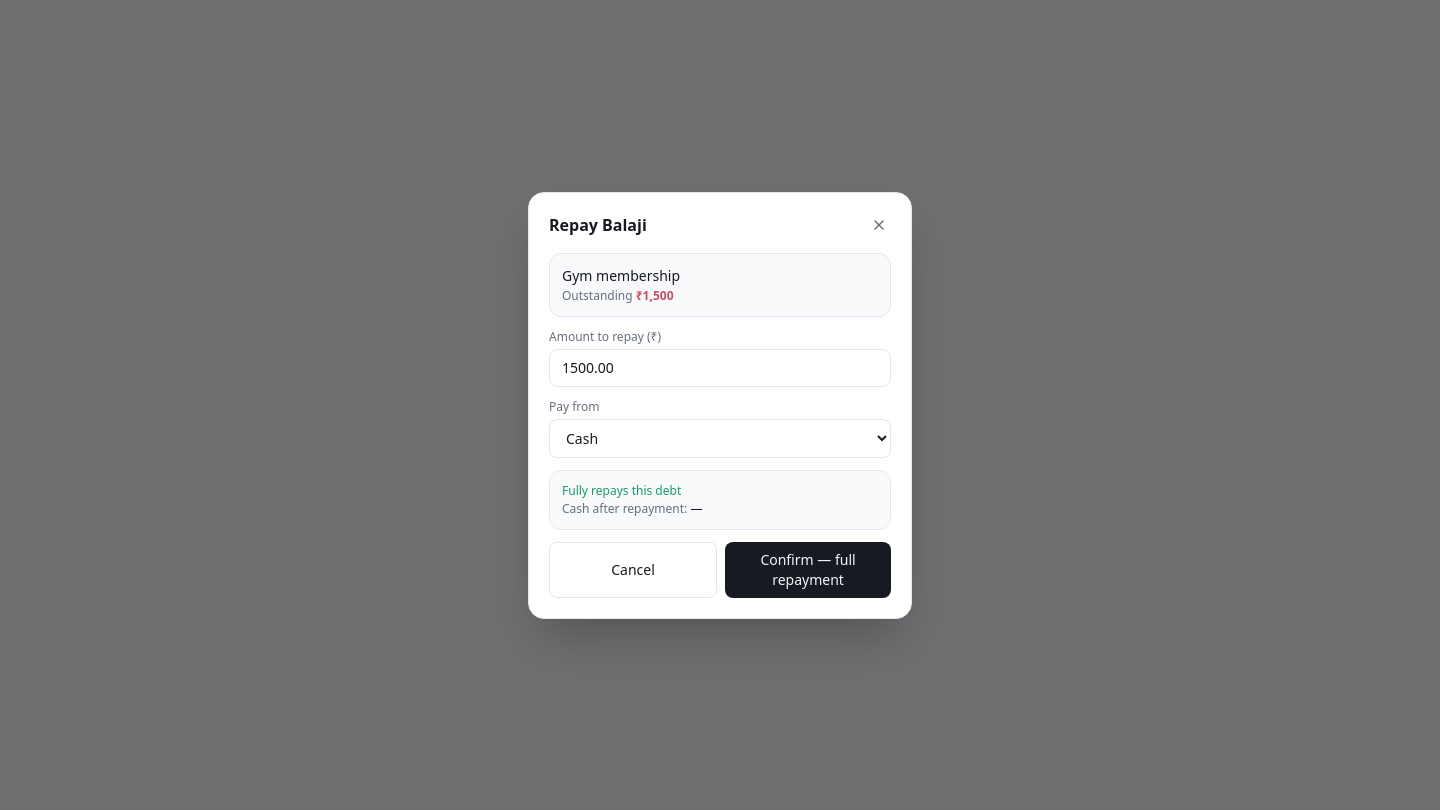
Scenario: RepayDebtModal › offers "Repay full" to restore the default after editing
Type "200" into the field labelled "Amount to repay (₹)". click: (720, 368)
box: [549,348,891,386]
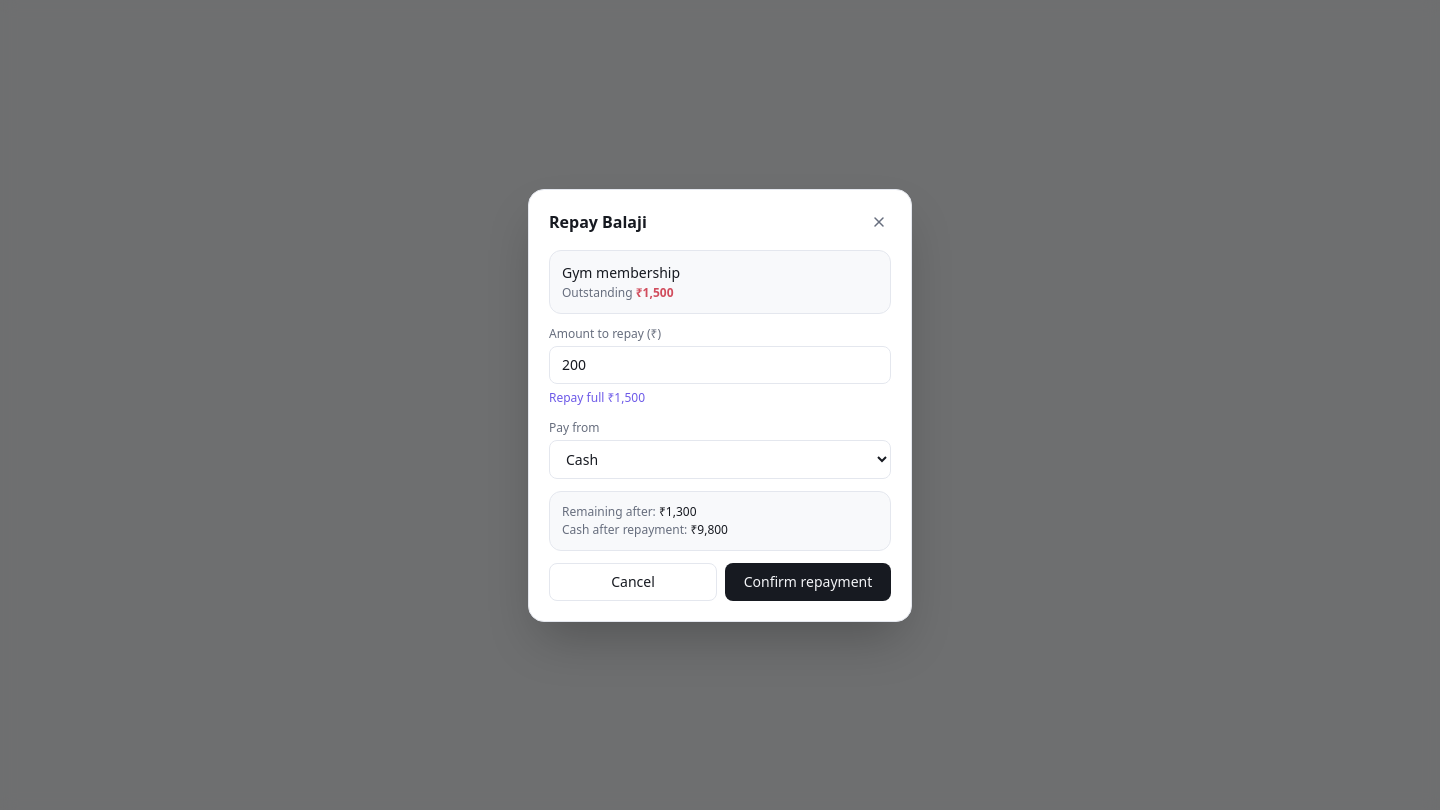
Click the button "Repay full ₹1,500". click: (597, 398)
box: [549,390,645,406]
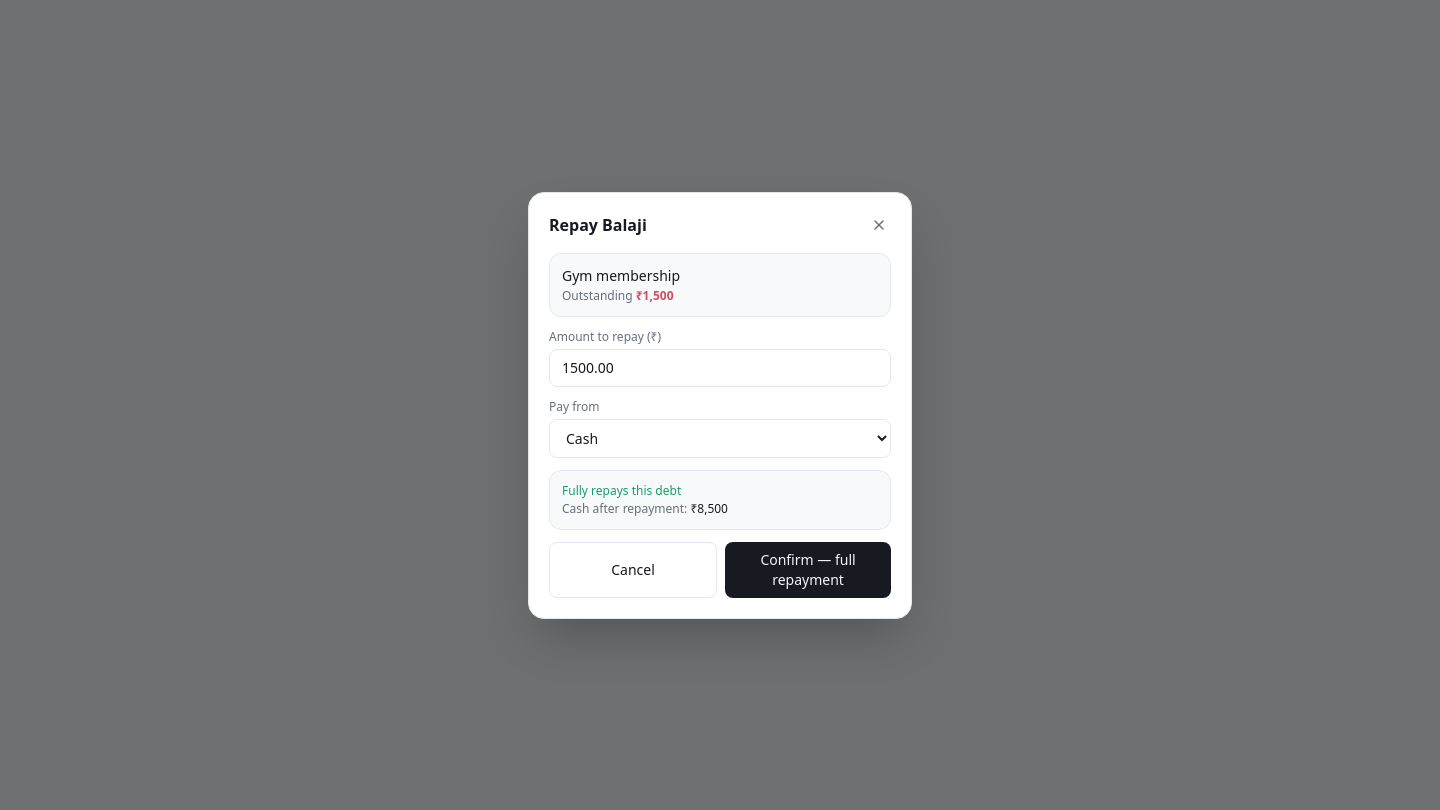
Result: the field labelled "Amount to repay (₹)" holds "1500.00" at [549,348,891,386]
